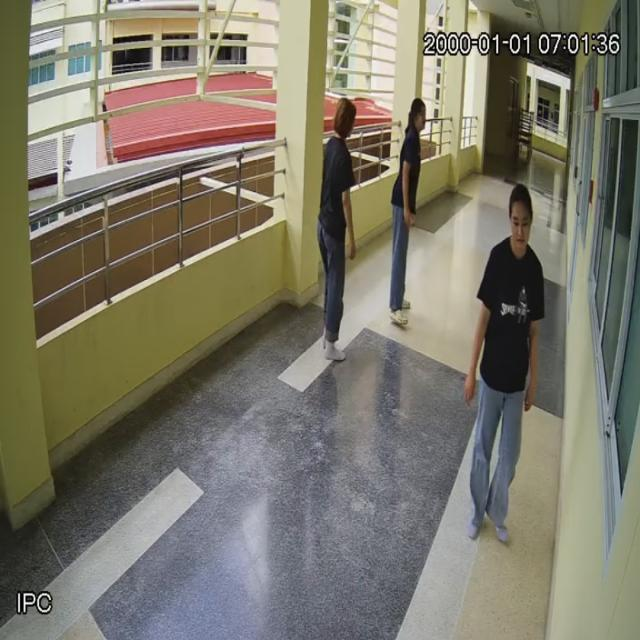normal: (466, 185, 545, 546), (318, 98, 357, 361), (391, 100, 428, 328)
